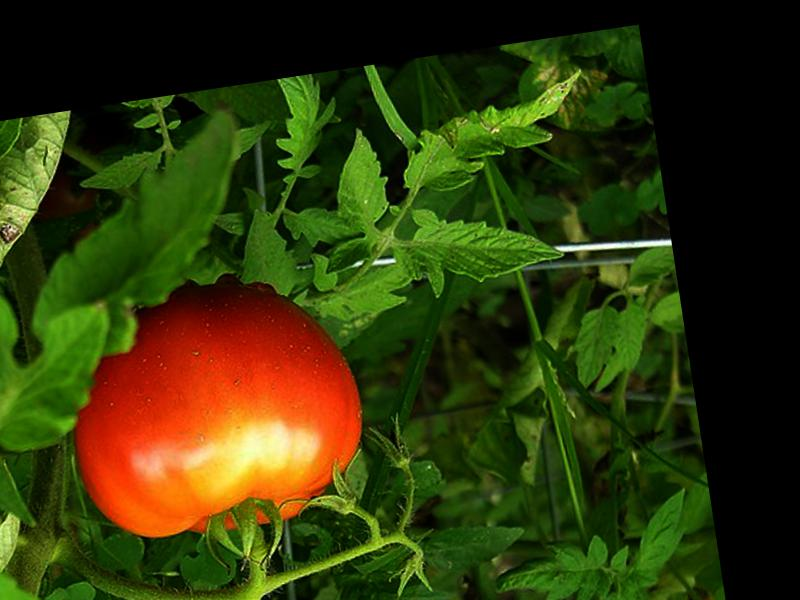Tomato: (56, 269, 374, 552)
